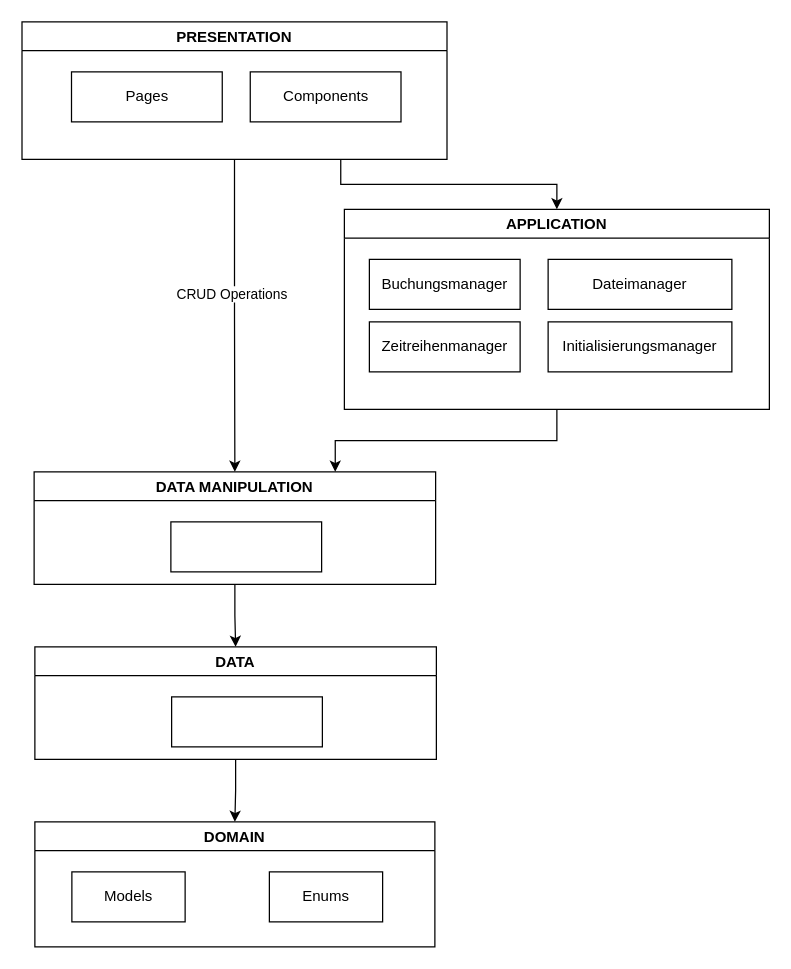
This 791x969 diagram has some shape labels left out. Here are the shapes that lost their labels. From the top down, the centre of each, then its label:
At [246,546]: "Datastoremanager".
At [246,721]: "Datastore".
